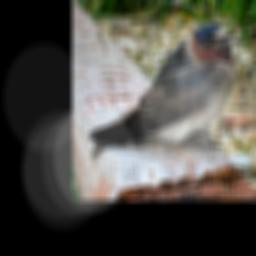Swallow: (86, 20, 241, 160)
